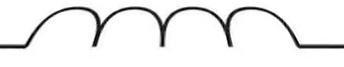inductor: (18, 4, 315, 64)
